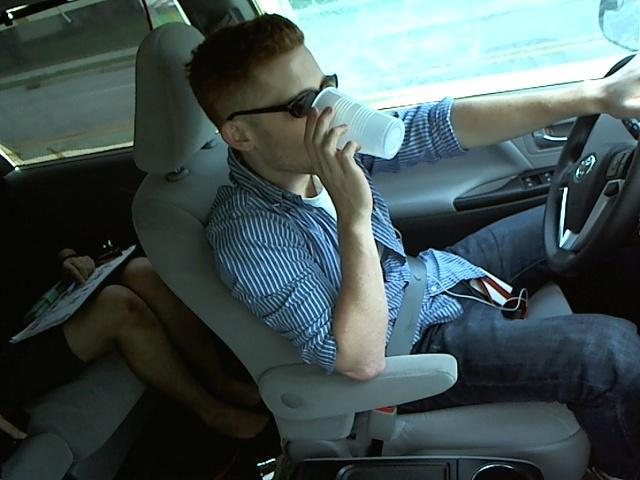Drinking: (218, 44, 405, 215)
